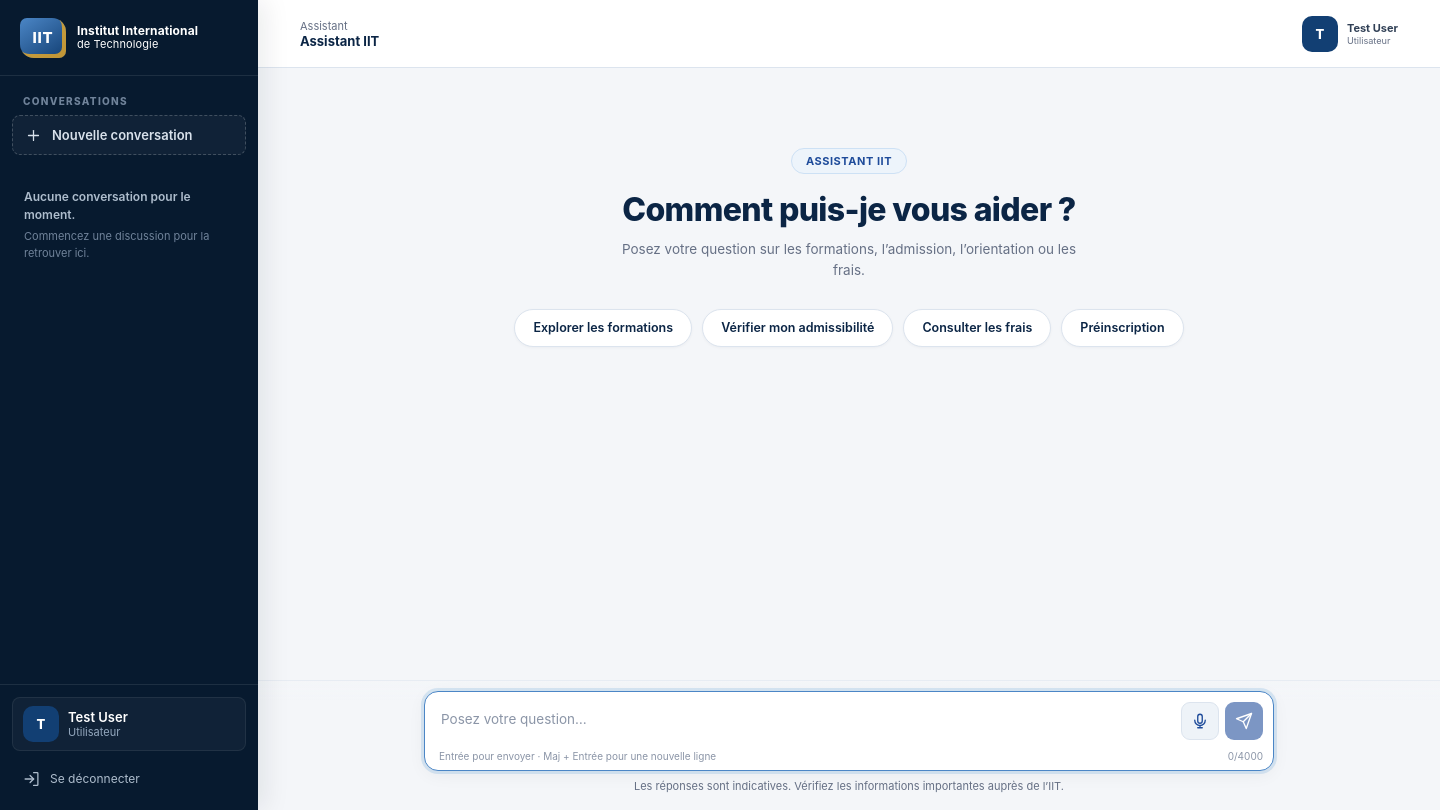
Test: ChatPage › preserves existing text when adding a transcription
Type "Bonjour" into the text box named "Votre message" at (806, 721), box [439, 702, 1173, 740]
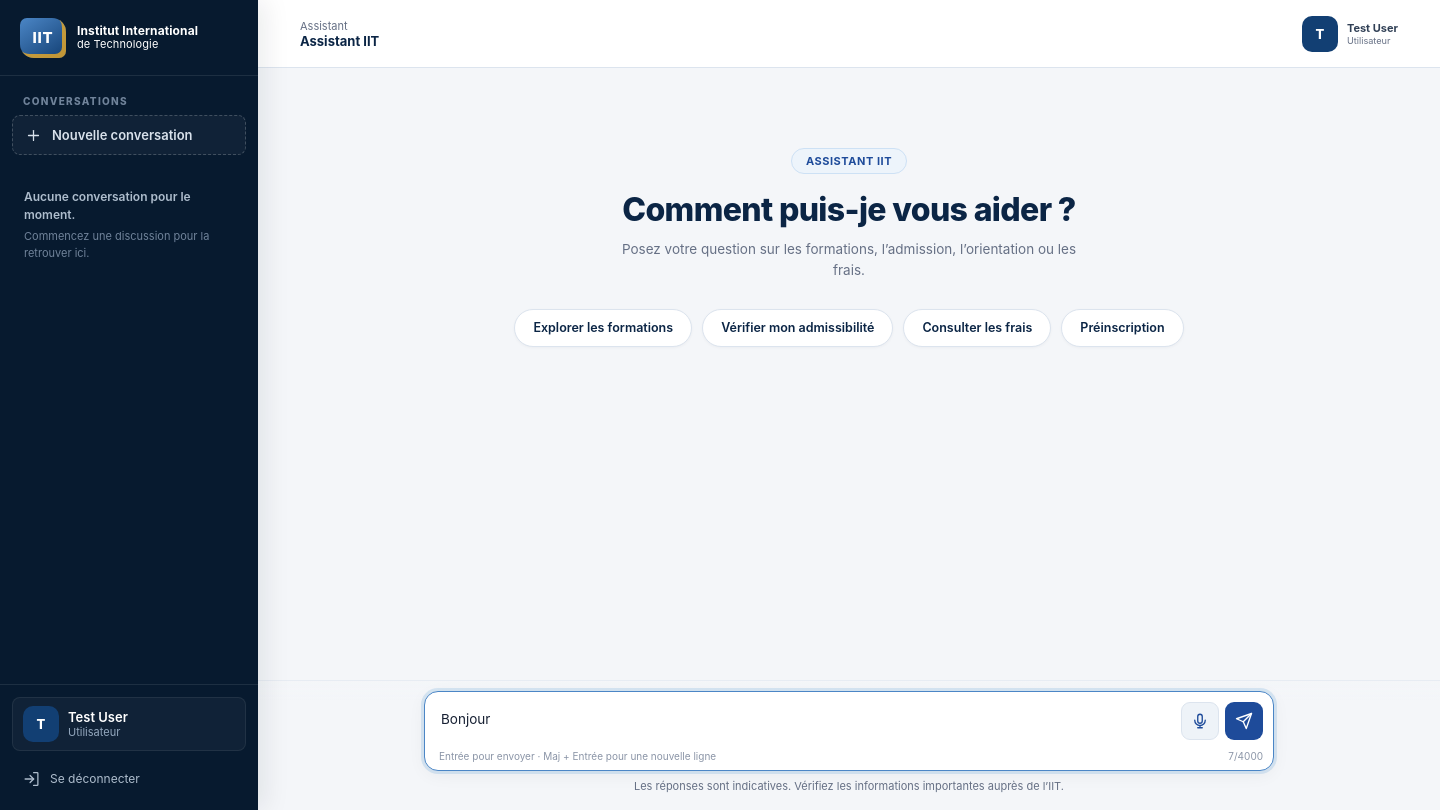
Click the button named "Démarrer l’enregistrement vocal" at (1200, 721), box [1181, 702, 1219, 740]
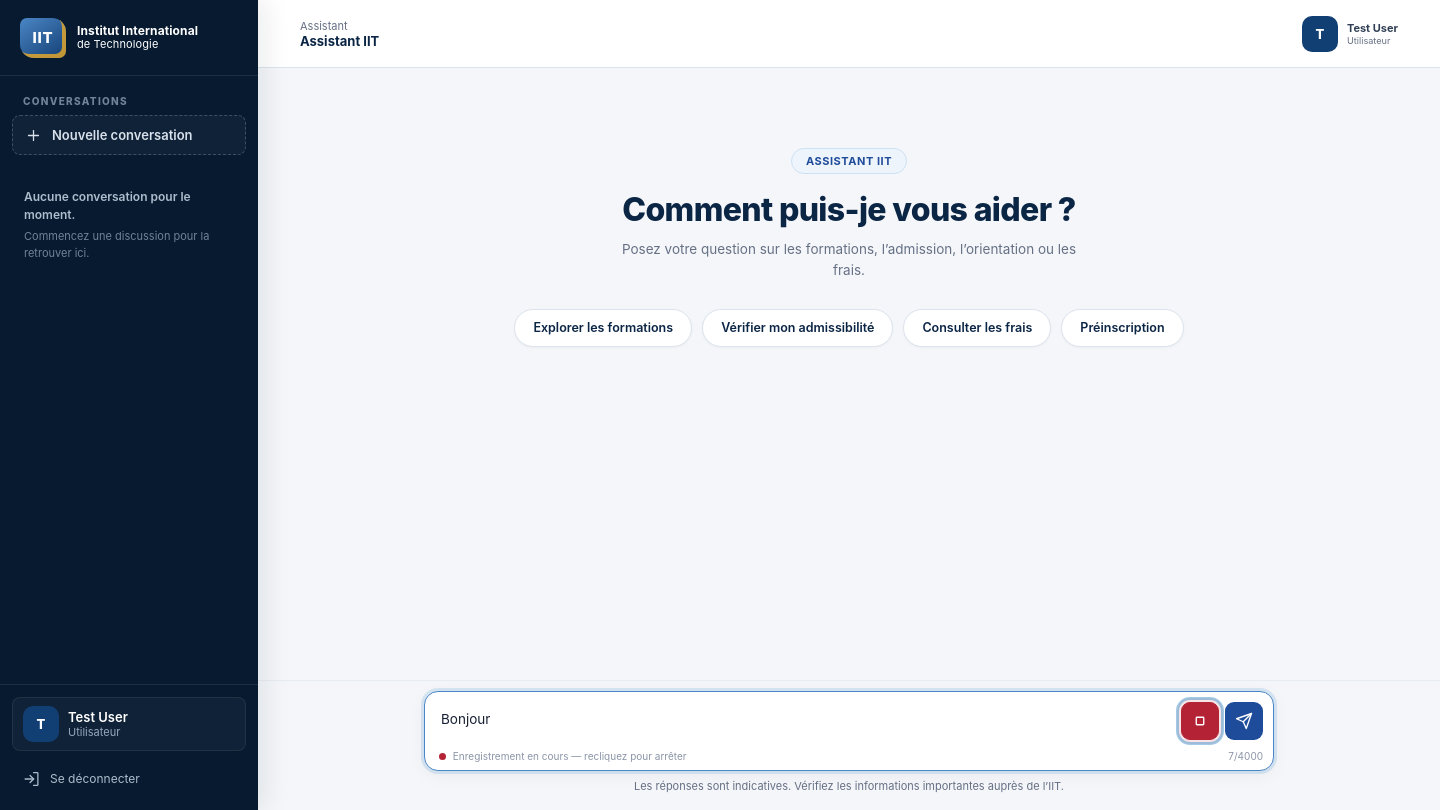
Click the button named "Arrêter l’enregistrement vocal" at (1200, 721), box [1181, 702, 1219, 740]
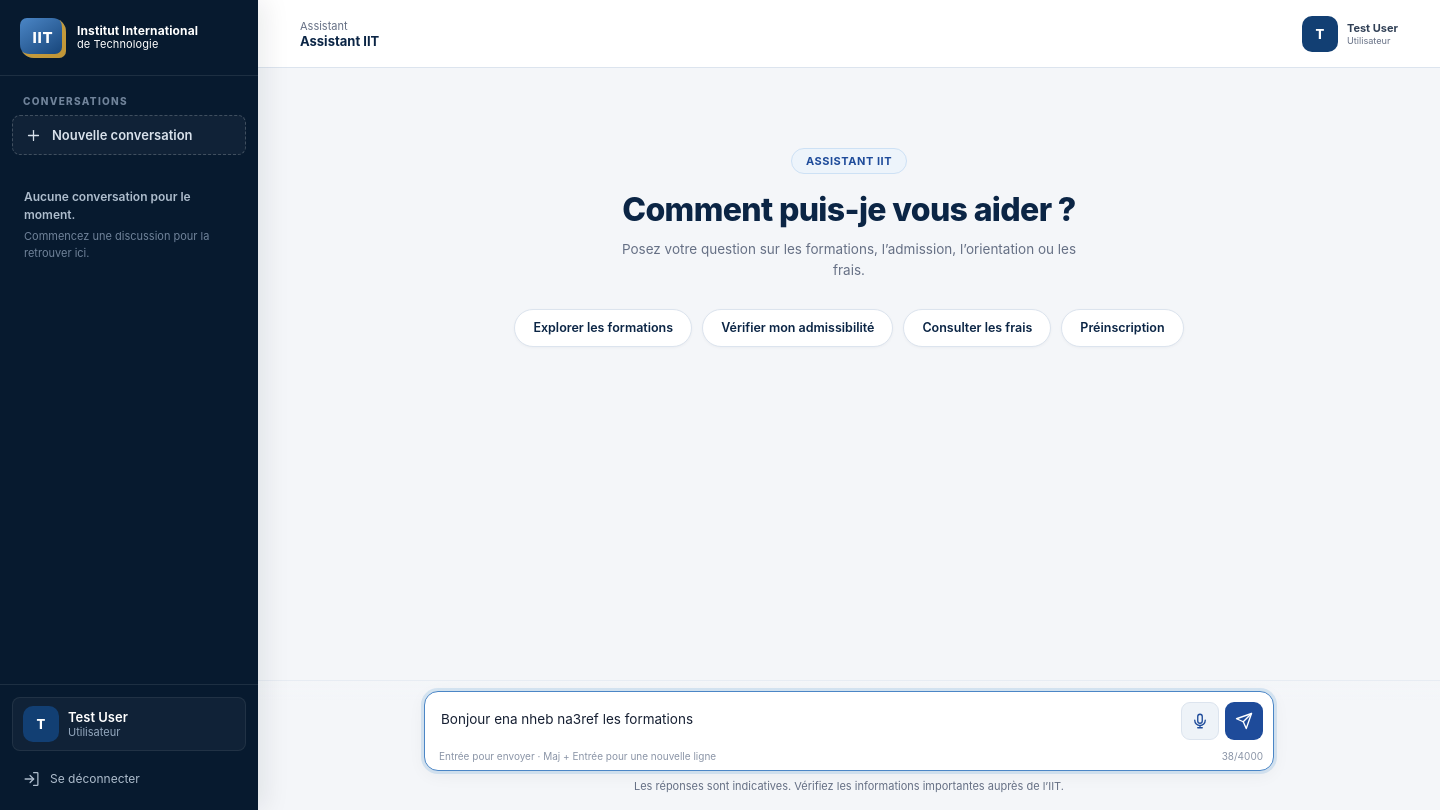
Now the text box named "Votre message" holds "Bonjour ena nheb na3ref les formations", box [439, 702, 1173, 740]
